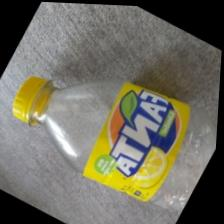plastic: (0, 48, 218, 223)
